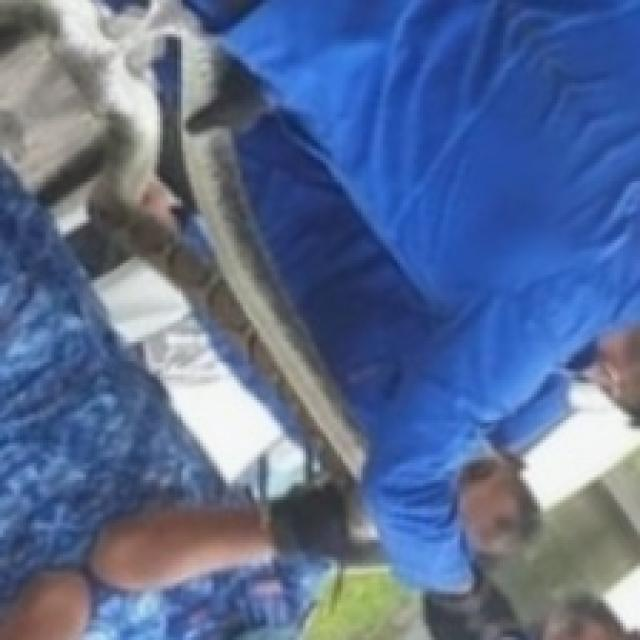reticulated python: (46, 0, 366, 478)
